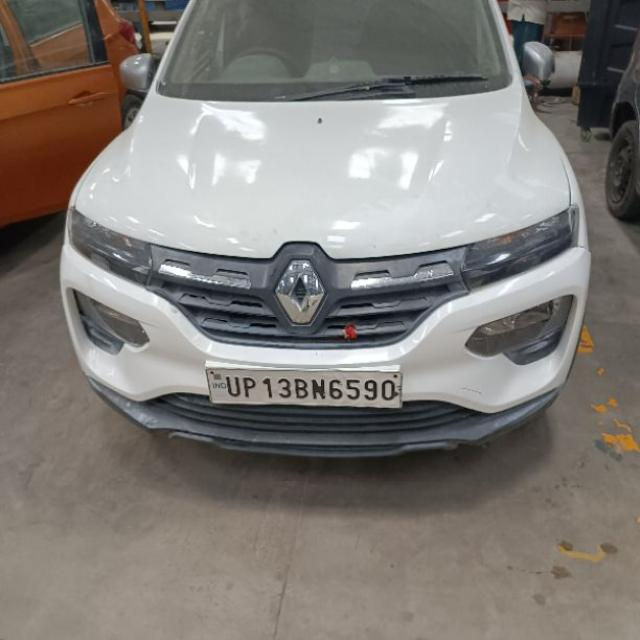license_plate: (204, 365, 403, 409)
